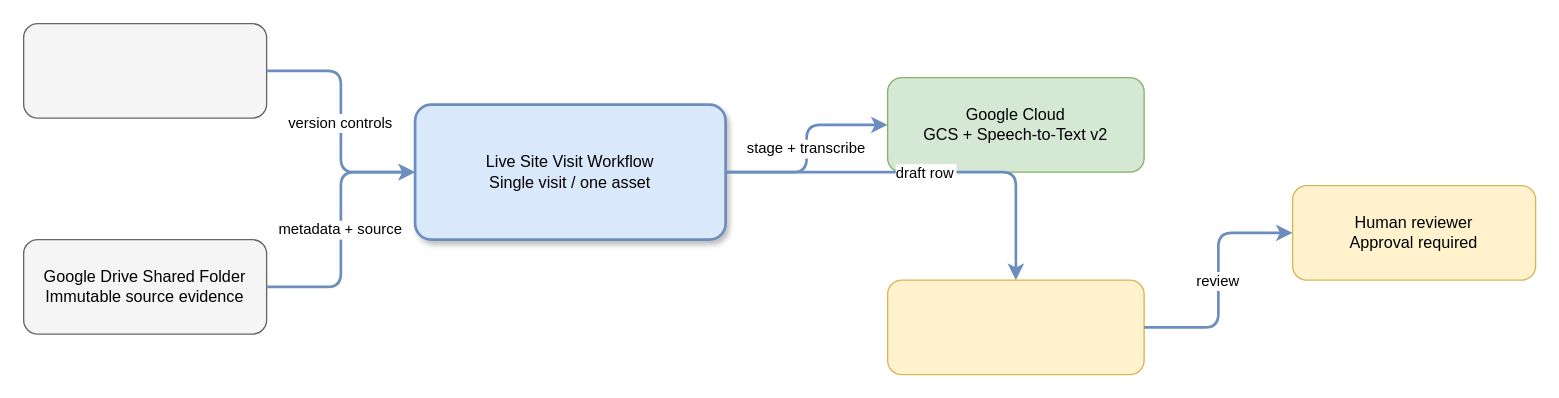
Some shapes in this 1559 by 398 pixel diagram are drawn without their labels. Here are the shapes that lost their labels. From the top down, the centre of each, then its label:
[144,70]: GitHub Versioned workflow and docs
[1015,327]: Google Sheets Draft catalog
